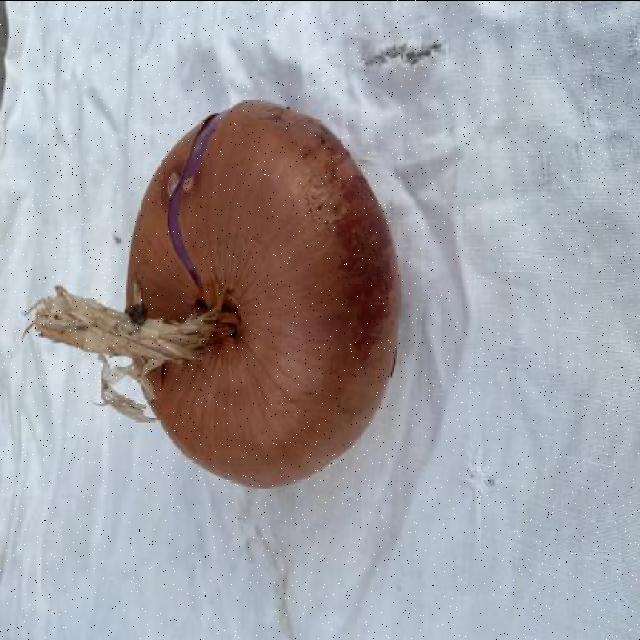Onion: (28, 100, 398, 486)
